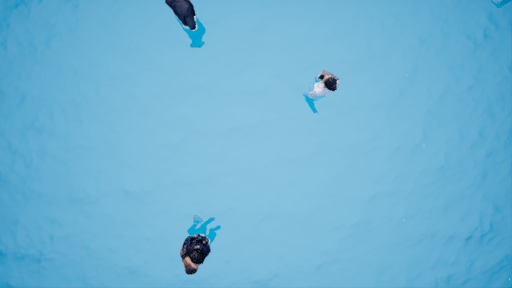person: (176, 215, 228, 276), (160, 1, 212, 54), (296, 71, 344, 116)
